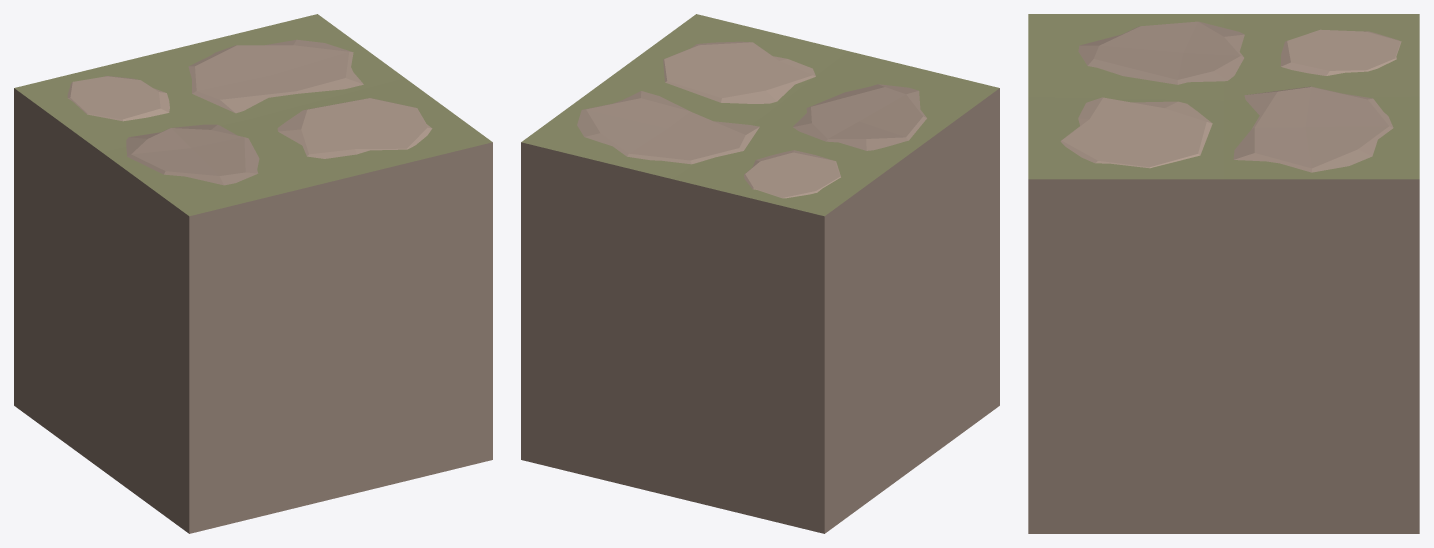
File: Floor_2.fbx
3 views of the same model, side by side, from view 1: azimuth 30°, elevation 25°; view 2: azimuth 150°, elevation 25°; view 3: azimuth 270°, elevation 25° (orthographic). The views are drawn at different scales.
Visible parts, largest first — view 1: Floor_2; view 2: Floor_2; view 3: Floor_2.
Boxes of the visible parts, x1,y1,x2,y2 form: Floor_2: (14,14,492,533); Floor_2: (521,14,999,533); Floor_2: (1028,14,1419,533).
Bounding box in the file's own units: 1 × 1 × 1.01.
